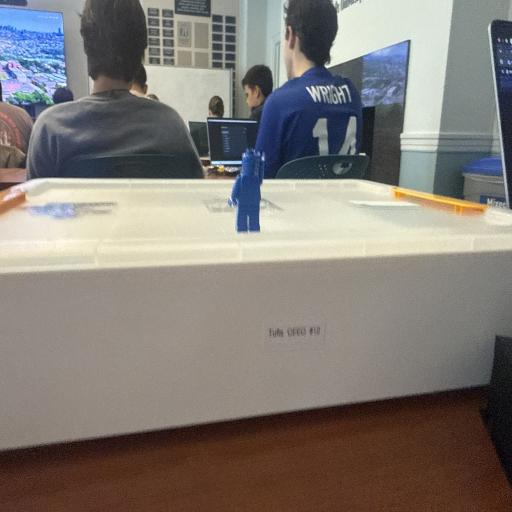Minifig: (231, 148, 264, 231)
